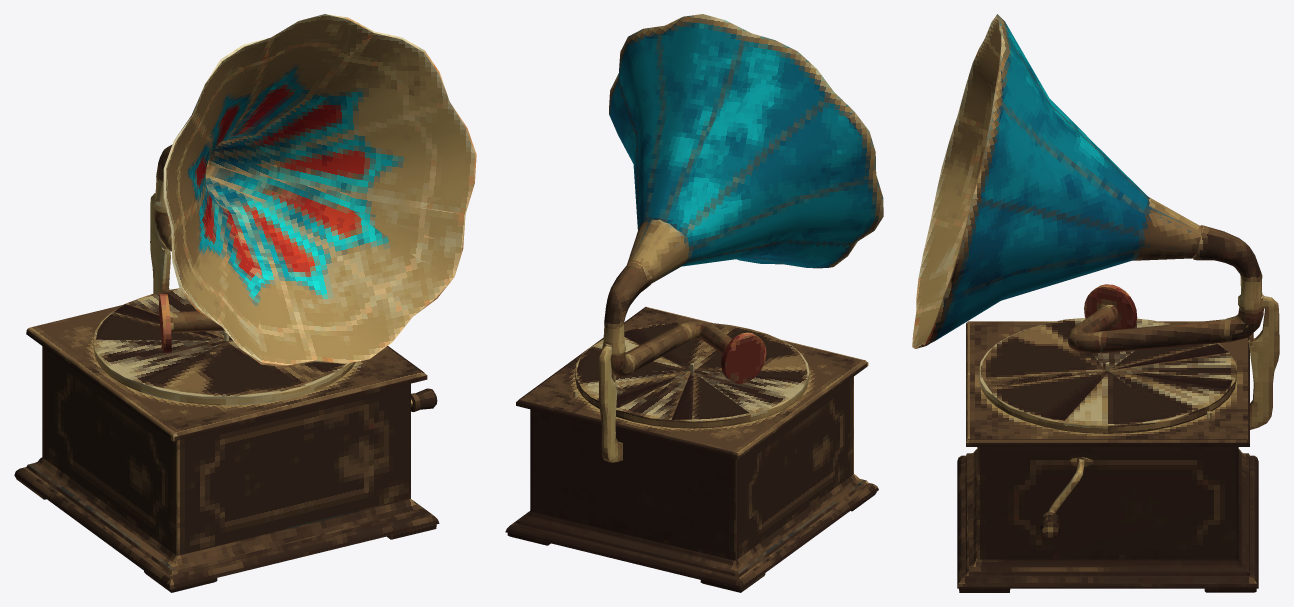
Rendered from gramophone.glb.
3 renders of one model, left to right at view 1: azimuth 30°, elevation 25°; view 2: azimuth 150°, elevation 25°; view 3: azimuth 270°, elevation 25°, orthographic. The views are drawn at different scales.
Visible parts, largest first — view 1: mesh; view 2: mesh; view 3: mesh.
Part boxes in pixels (box(x1,y1,x2,y2)): mesh: box(14, 14, 476, 592); mesh: box(505, 14, 883, 592); mesh: box(912, 14, 1279, 592).
Size of the model in its own units: 0.3139 by 0.5 by 0.3305.
Materials: 1 (1 with a texture image).
